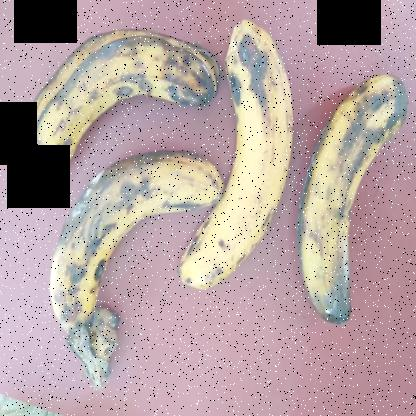overripe: (167, 10, 301, 318)
rotten: (35, 148, 235, 338), (22, 6, 215, 194), (298, 60, 408, 332)
